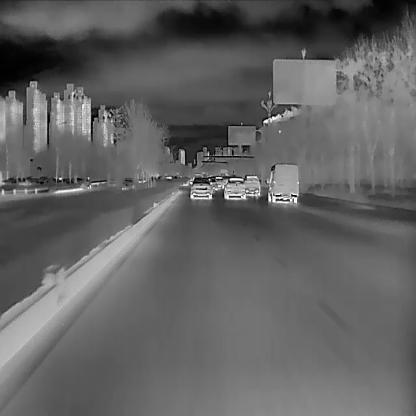car: (267, 162, 298, 204), (188, 176, 212, 199), (222, 177, 245, 201), (242, 174, 260, 197)
